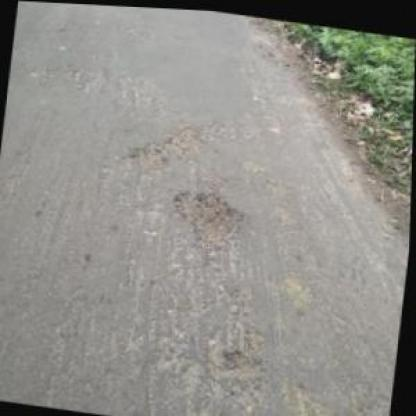pothole: (166, 179, 251, 248), (129, 115, 205, 175), (222, 346, 258, 375)
